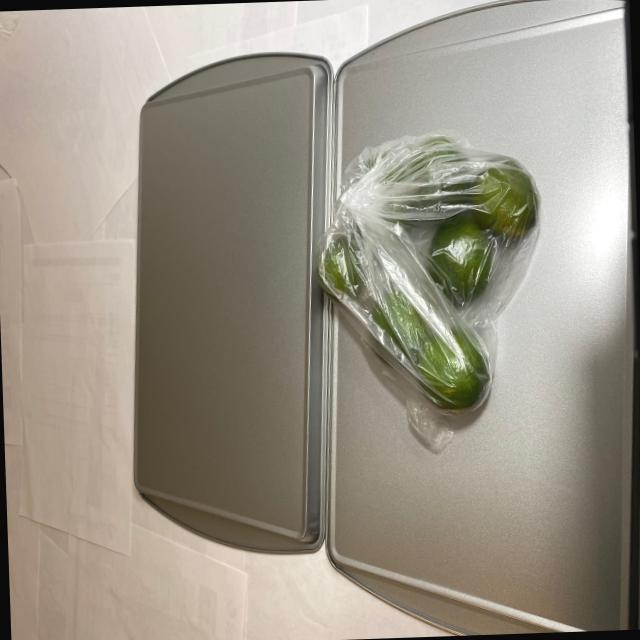lemon: (315, 144, 544, 416)
